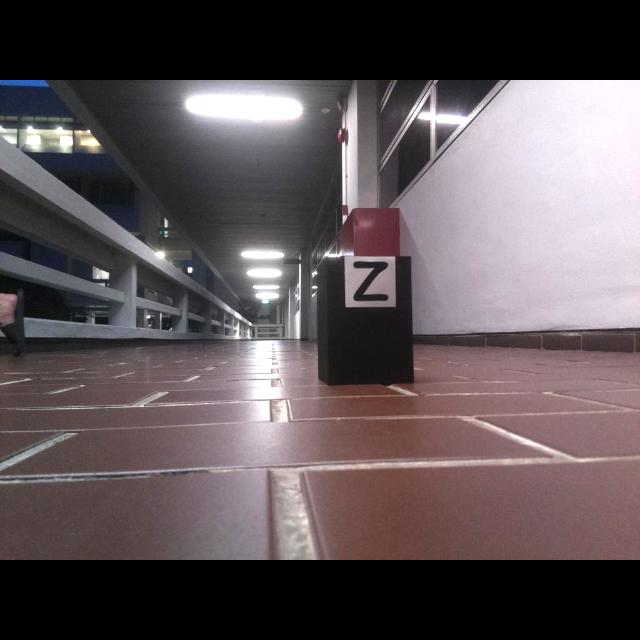Z: (353, 262, 388, 301)
